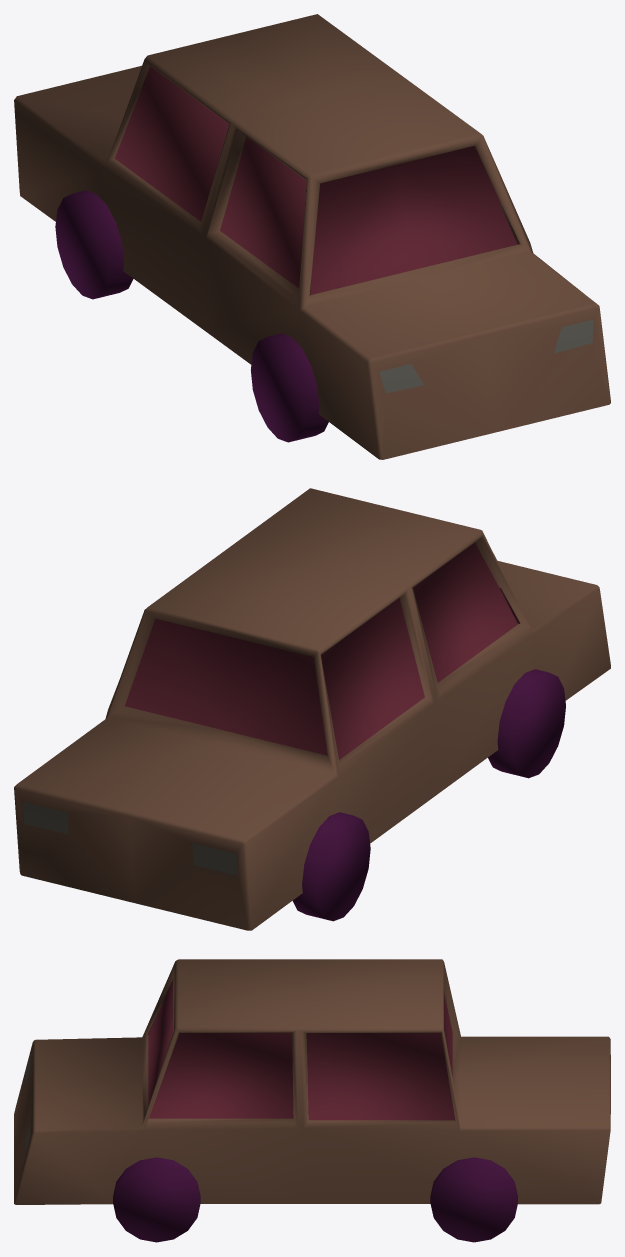
File: Mobil.fbx
3 renders of one model, top to bottom at view 1: azimuth 30°, elevation 25°; view 2: azimuth 150°, elevation 25°; view 3: azimuth 270°, elevation 25°, orthographic. The views are drawn at different scales.
Visible parts, largest first — view 1: Cube; view 2: Cube; view 3: Cube.
Boxes of the visible parts, bbox=[...] form: Cube: bbox=[14, 14, 610, 459]; Cube: bbox=[14, 488, 610, 930]; Cube: bbox=[14, 959, 610, 1242].
Bounding box in the file's own units: 2.25 × 2 × 5.49.
